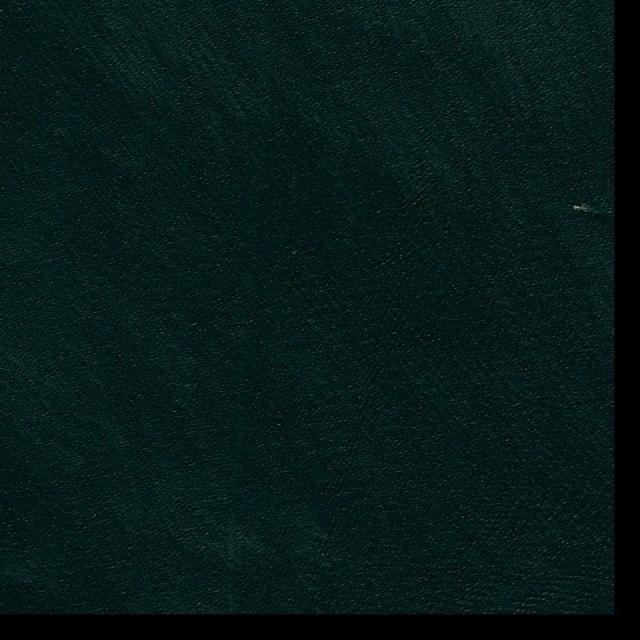ship: (573, 205, 585, 210)
